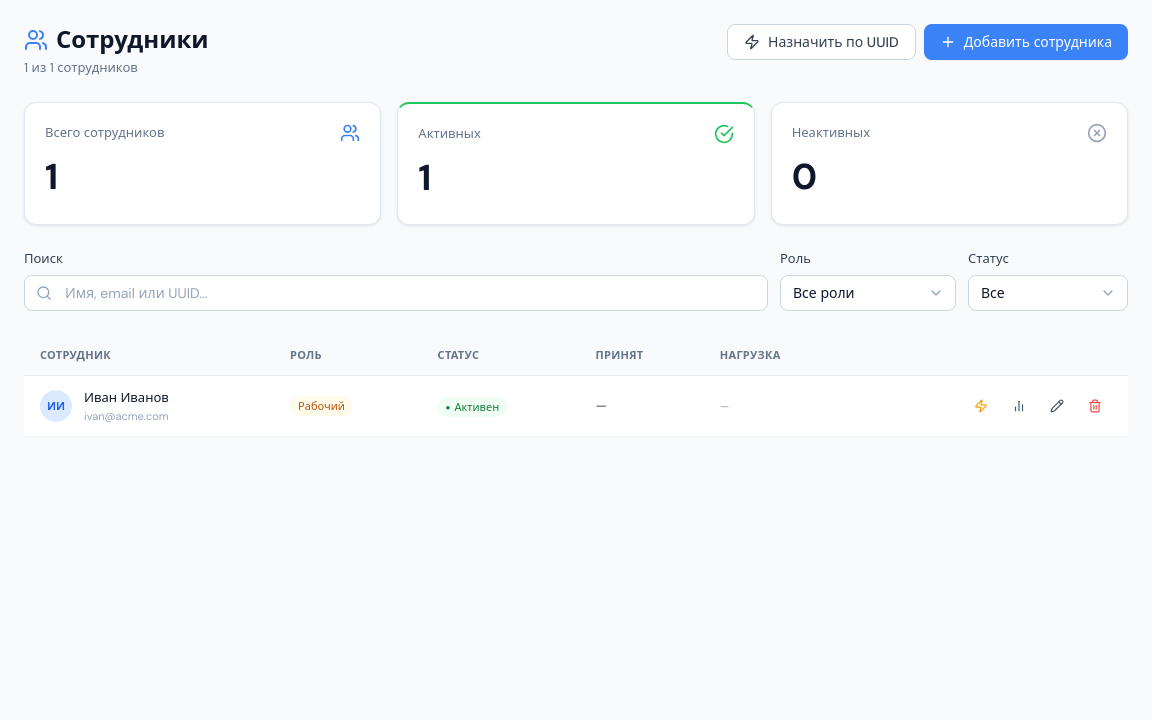
Test: EmployeesPage › shows delete confirmation modal
Expected: the text "ivan@acme.com" is shown, [84, 409, 169, 423]
Click the 6th button. click: x=1095, y=406
box: [1078, 392, 1112, 420]
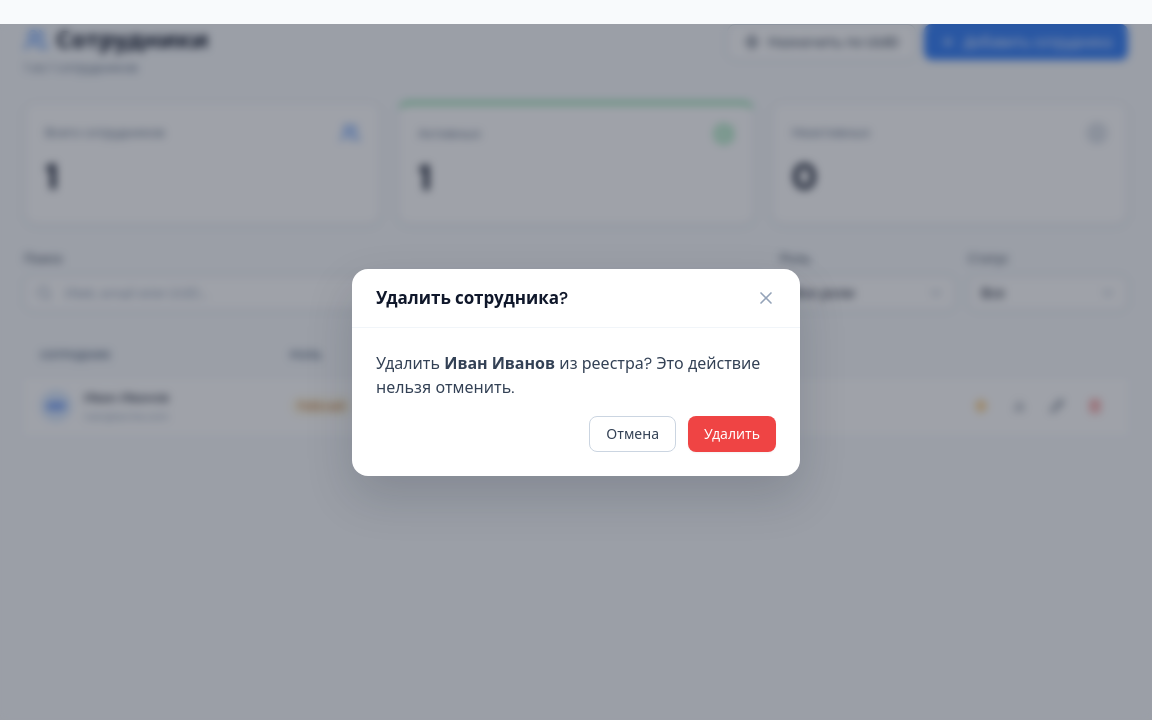
Expected: the heading "Удалить сотрудника?" is shown, [376, 284, 568, 310]
